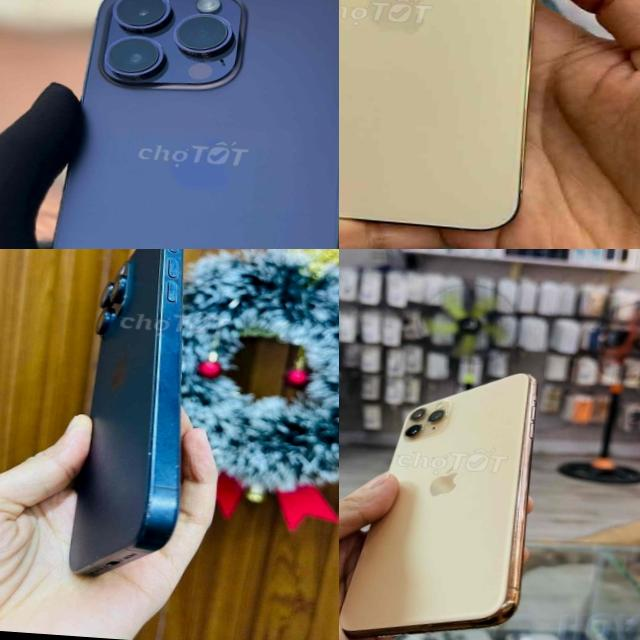gen_11: (339, 374, 536, 636)
gen_12_13: (339, 0, 567, 242)
gen_14: (27, 0, 339, 249)
gen_15: (39, 249, 222, 576)
